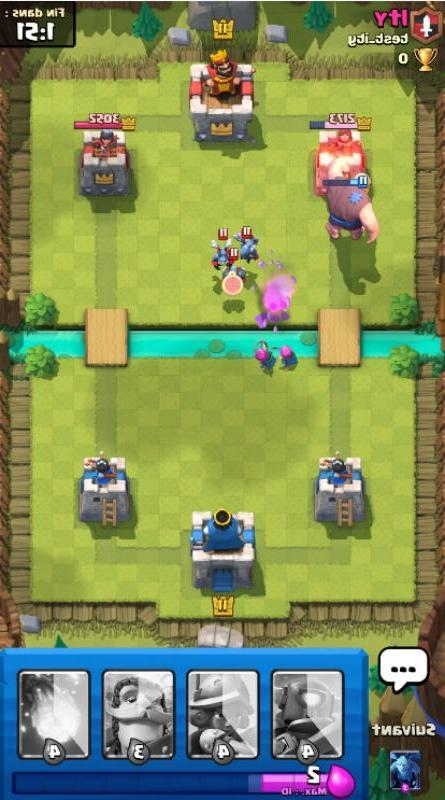enemy_minions: (233, 227, 263, 266), (207, 239, 236, 273)
player_archers: (250, 336, 278, 374), (275, 338, 301, 371)
player_giant: (312, 152, 384, 251)
